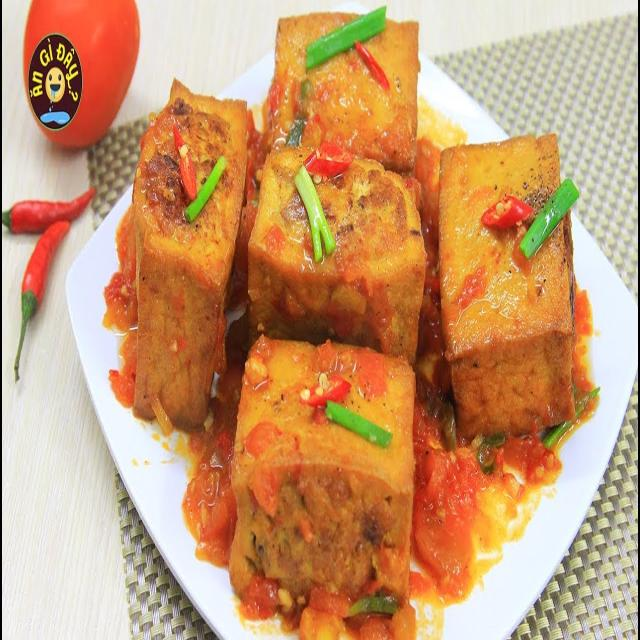dau hu: (132, 6, 577, 598)
